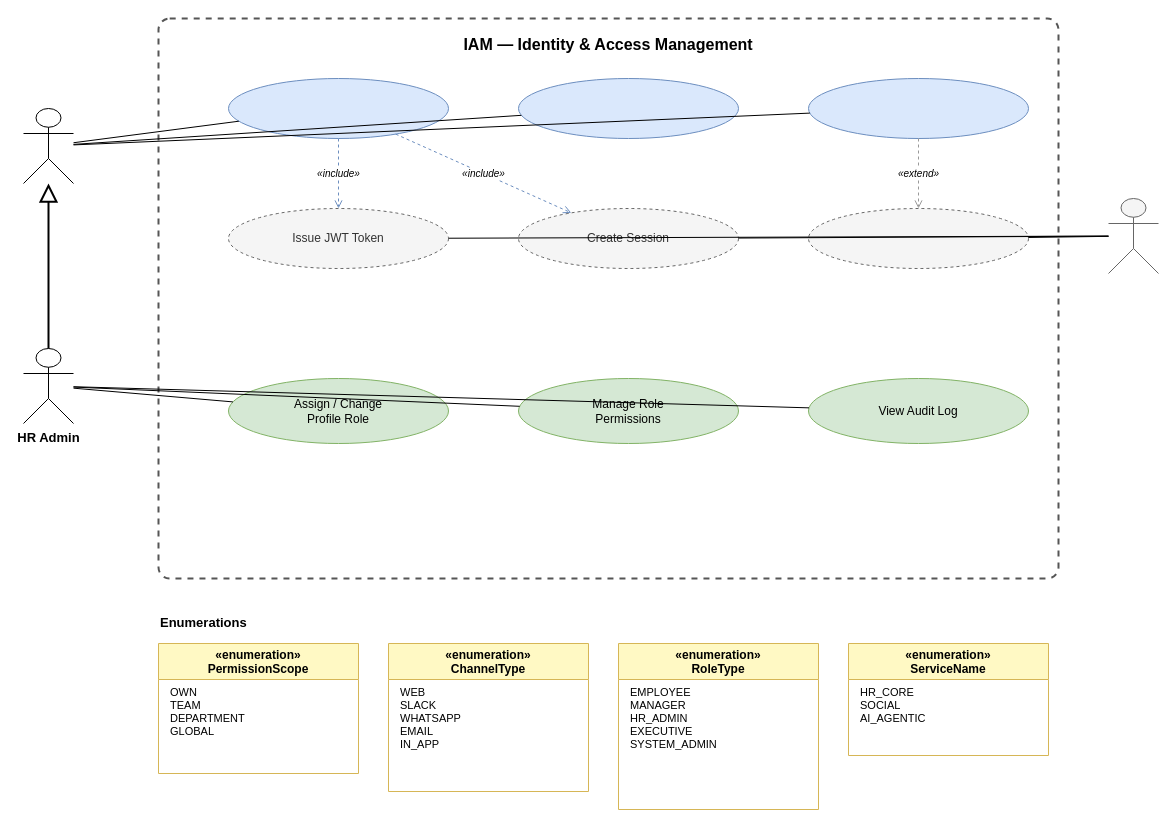
The diagram is 1176 pixels wide and 827 high, and some of its shapes have lost their labels. The shapes that lost their labels are listed below. From the top down, each one's centre as x and y in pixels, then its label:
At (338,108): "Authenticate".
At (628,108): "Refresh Token".
At (918,108): "Logout / Revoke Session".
At (48,146): "Employee".
At (918,238): "Revoke All Sessions".
At (1133,236): "HR Core (System)".
